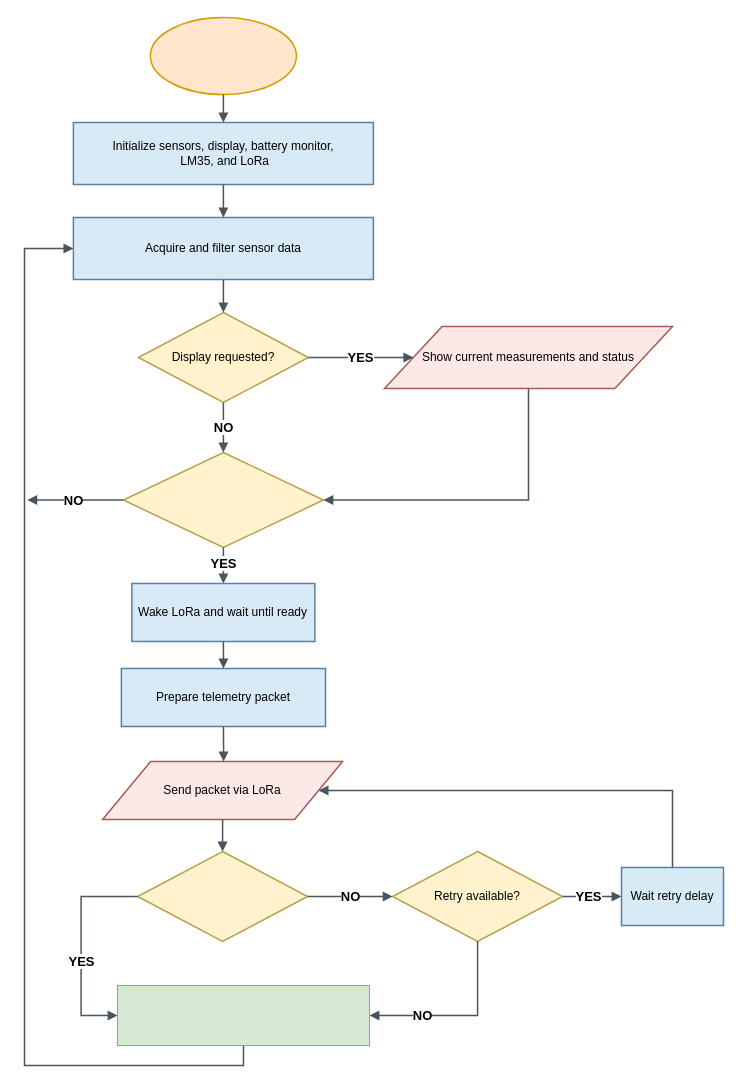
Some shapes in this 742 by 1092 pixel diagram are drawn without their labels. Here are the shapes that lost their labels. From the top down, the centre of each, then its label:
(x=223, y=55): Start
(x=223, y=499): Transmission interval reached?
(x=222, y=896): Valid ACK received?
(x=243, y=1015): Return LoRa to sleep and schedule next cycle
